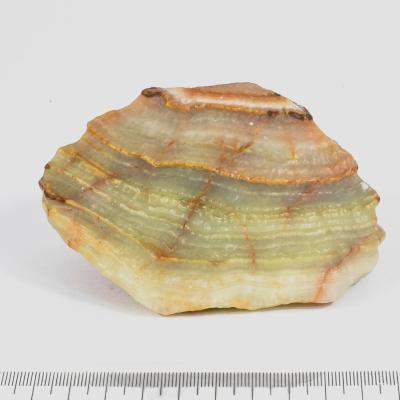mineralogy: (38, 83, 387, 318)
